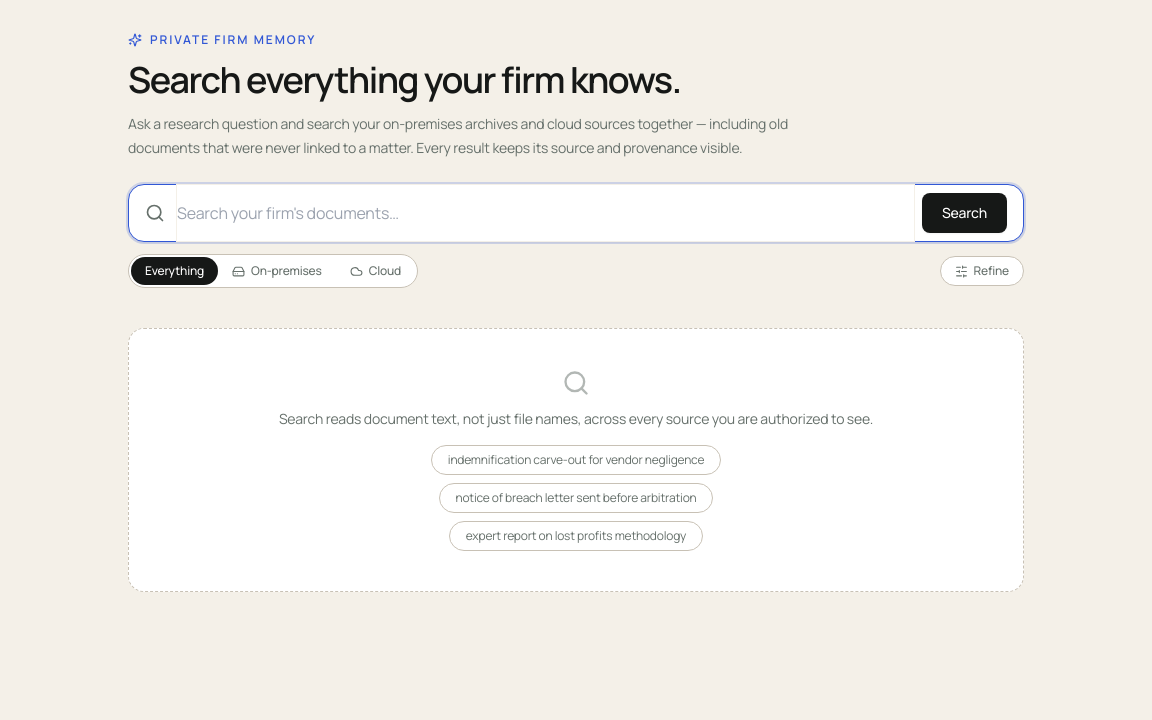
Scenario: UnifiedFirmMemoryPage › names the administrator action behind an unsearchable file share
The width and height of the screenshot is (1152, 720).
Type "old vendor file" into the field named "Research query".
click(545, 213); type("old vendor file")  # box [177,185,914,241]
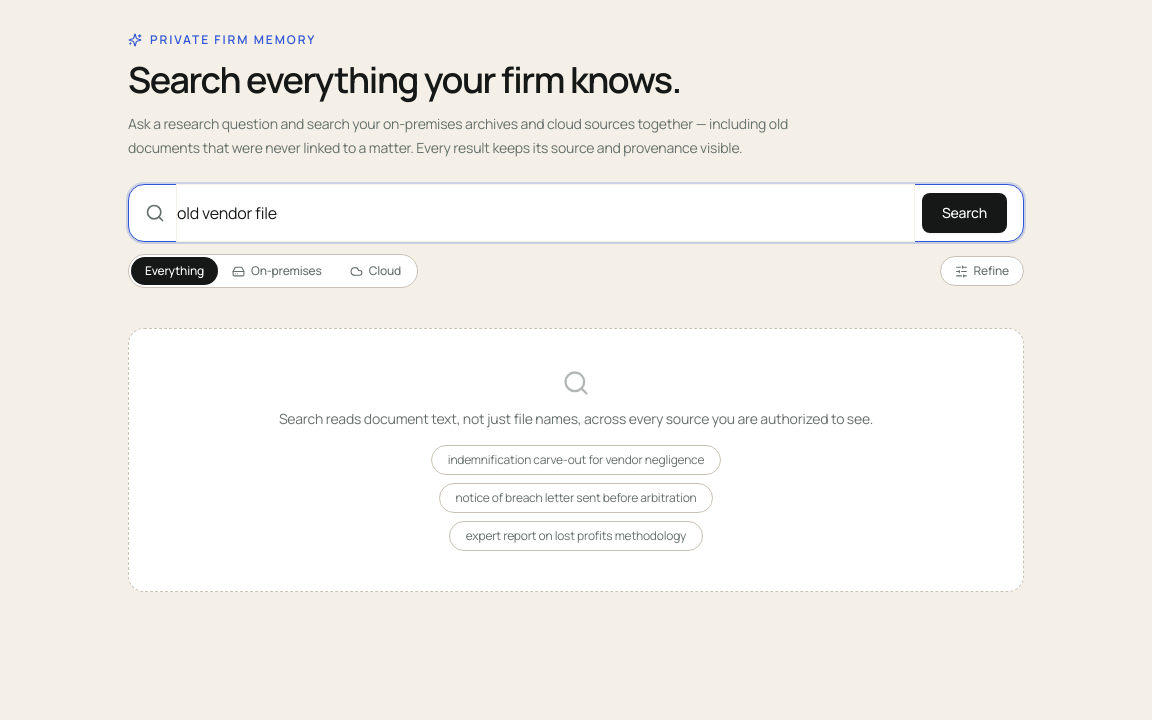
Click the button "Search".
click(964, 213)  # box [922,193,1007,233]
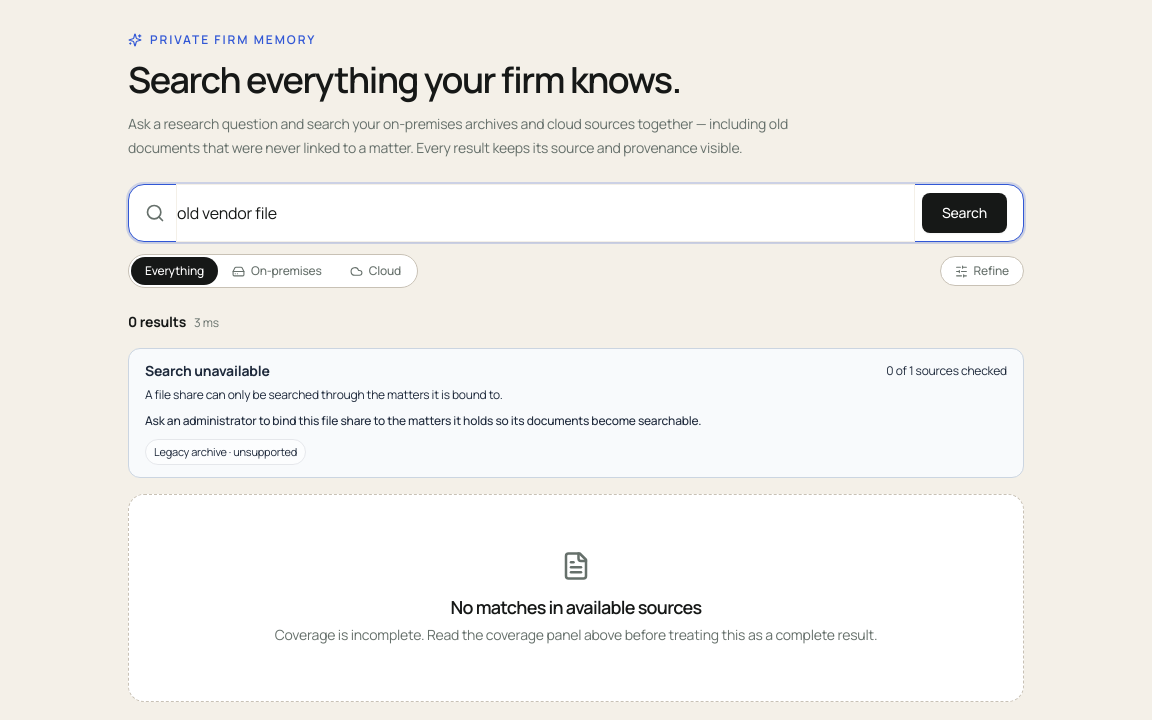
expect the text "Ask an administrator to bind this file share" is shown: met, box [145,412,701,429]
